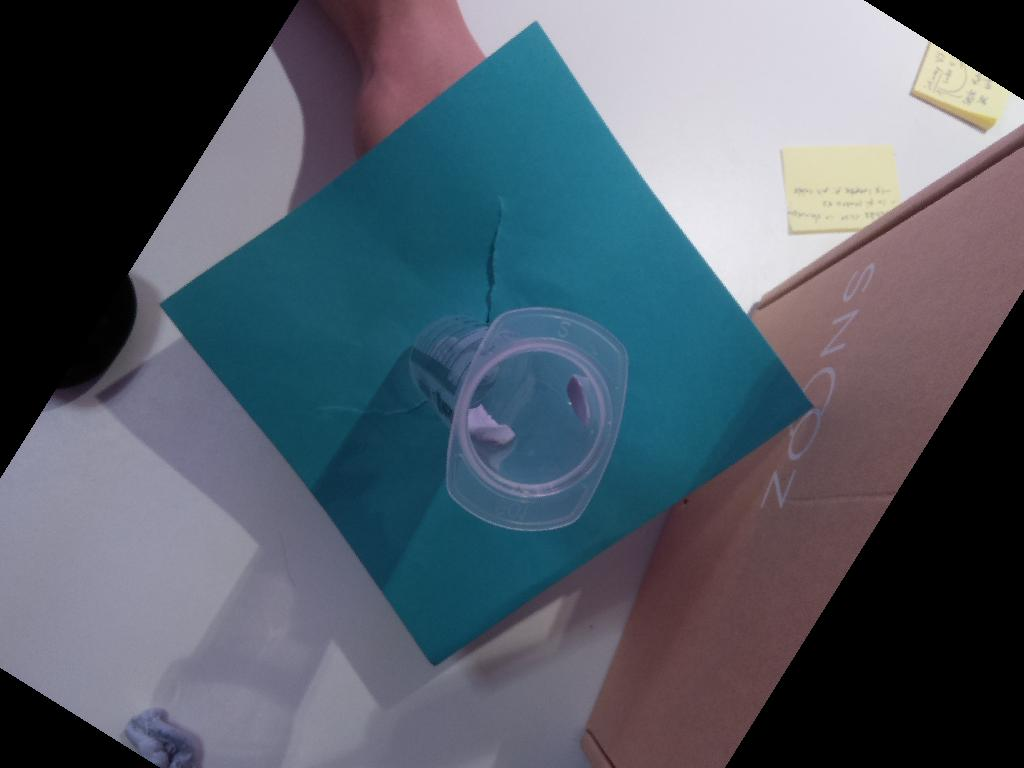dirty: (445, 307, 628, 532)
